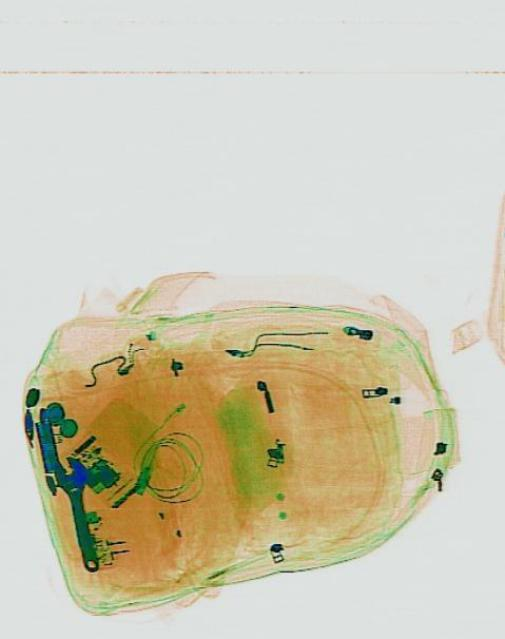Wrench: (48, 449, 107, 575)
